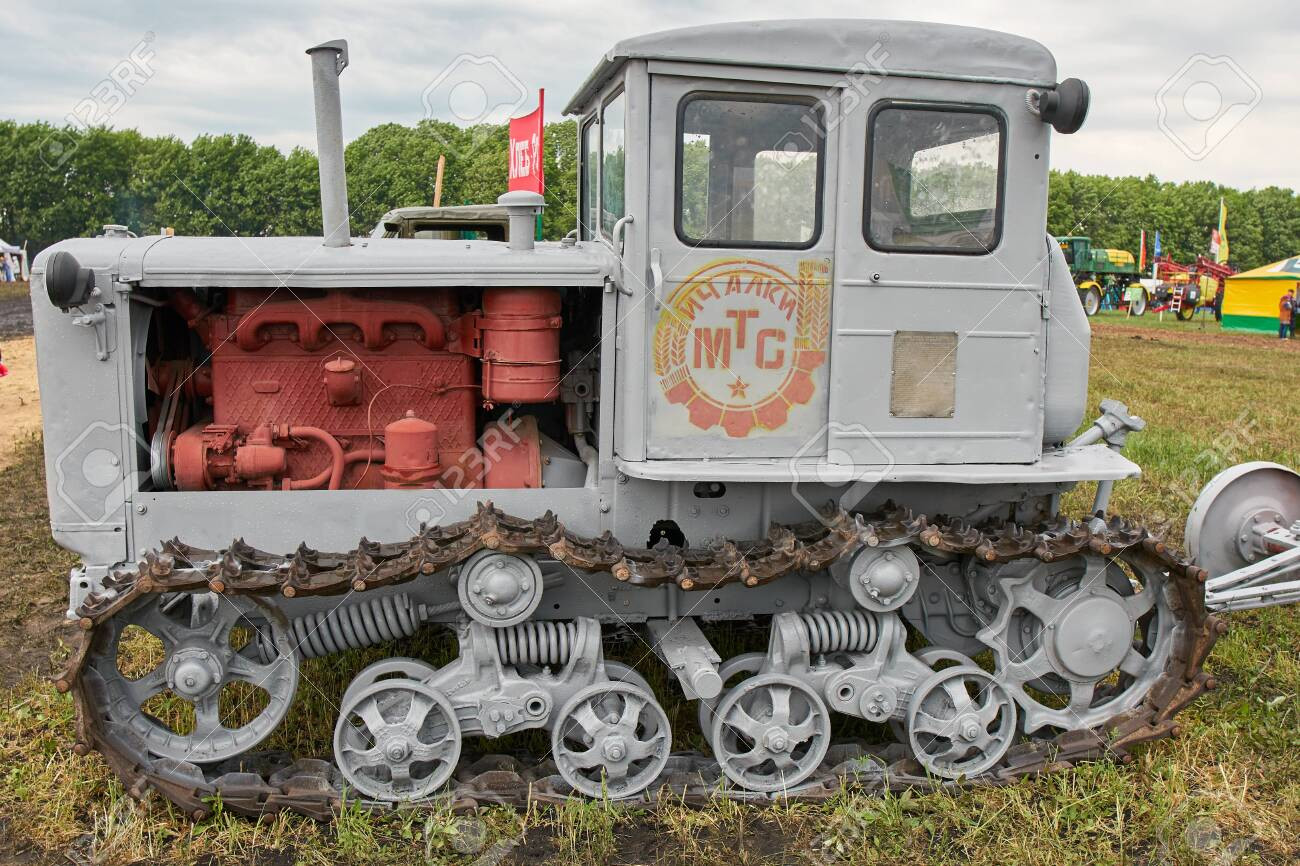tractor: (28, 13, 1233, 812)
